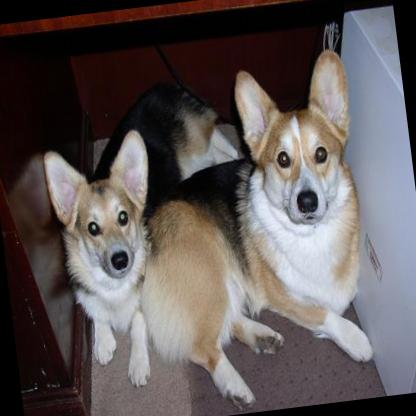Pembroke: (109, 44, 387, 416), (32, 72, 262, 396)
